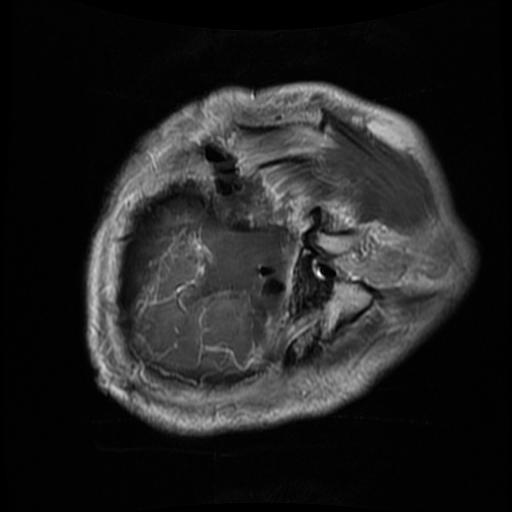glioma: (183, 212, 286, 349)
